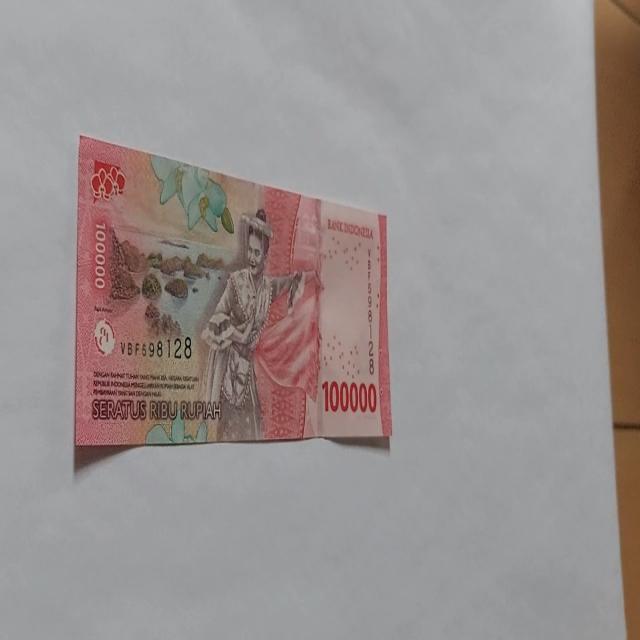seratus ribu rupiah: (74, 134, 392, 449), (198, 207, 308, 442)
